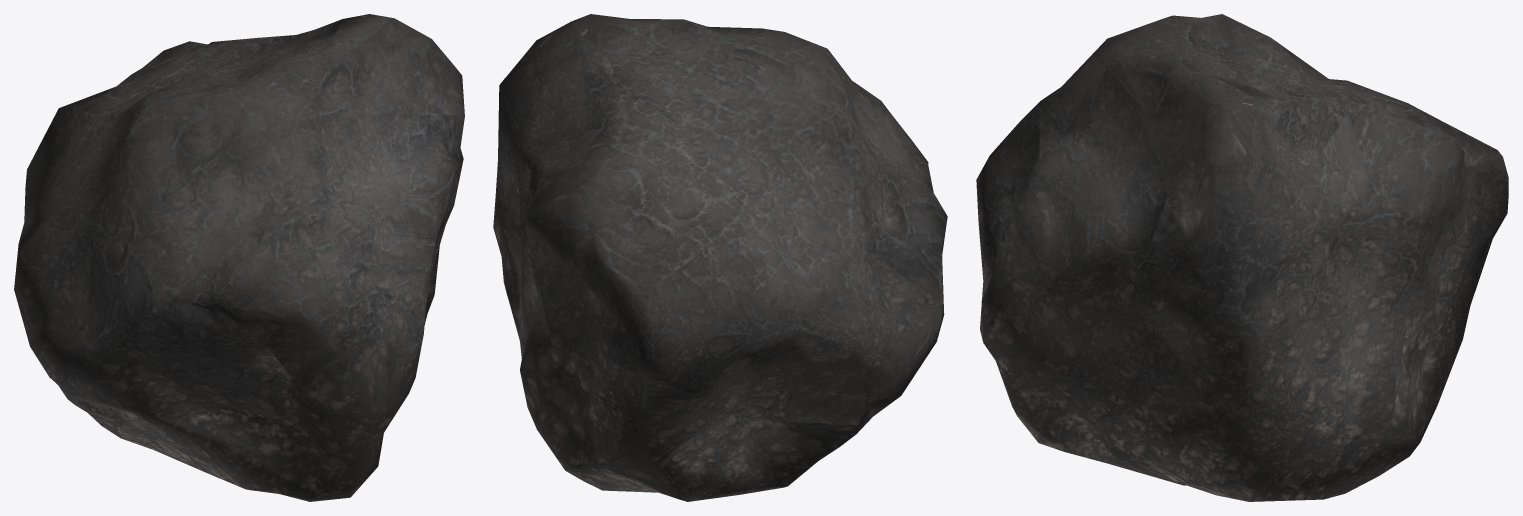
File: Rock_big_04_GREY.fbx
The picture shows the model from 3 angles, left to right: view 1: azimuth 30°, elevation 25°; view 2: azimuth 150°, elevation 25°; view 3: azimuth 270°, elevation 25°; orthographic projection. The views are drawn at different scales.
Parts seen in each view (by area): view 1: Rock_big_04_GREY; view 2: Rock_big_04_GREY; view 3: Rock_big_04_GREY.
Part boxes in pixels (bbox=[...]): Rock_big_04_GREY: bbox=[14, 14, 464, 501]; Rock_big_04_GREY: bbox=[493, 14, 947, 501]; Rock_big_04_GREY: bbox=[976, 14, 1508, 501].
Bounding box in the file's own units: 0.5422 × 0.5065 × 0.571.
1 material, 1 textured.
